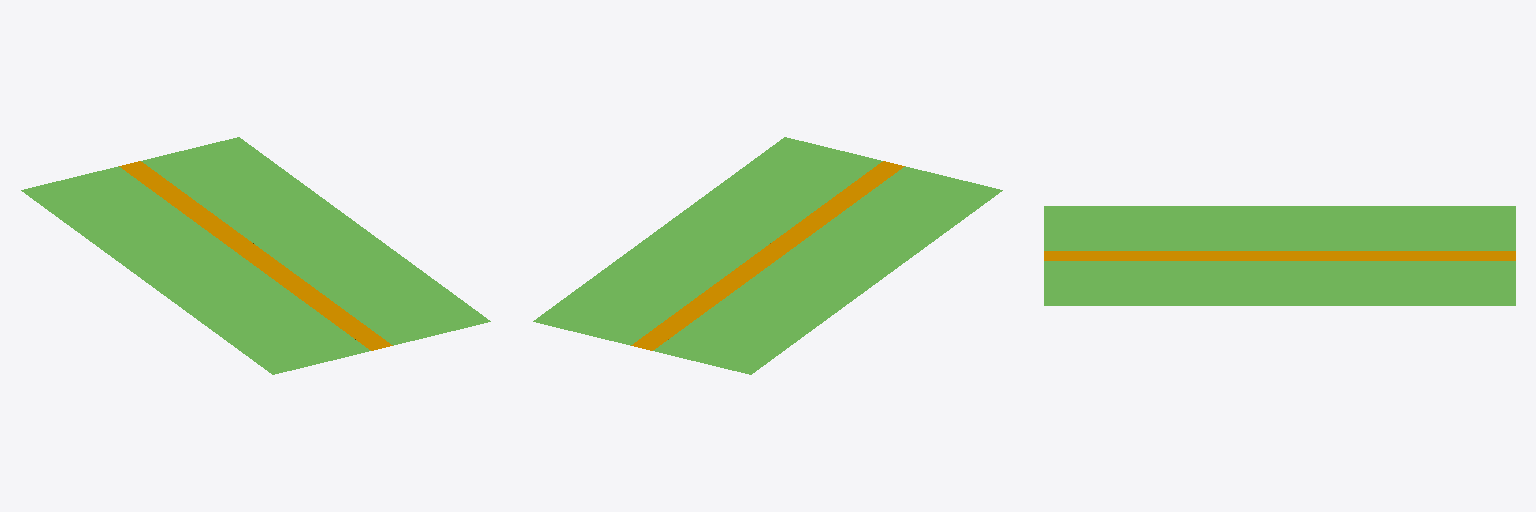
robot.urdf — plane_road:
<?xml version='1.0' encoding='UTF-8'?>
<robot name="plane_road">

  <link name="road">

    <visual>
      <geometry>
        <box size="4 80 0.001"/>
      </geometry>

      <material name="asphalt">
<!--        <color rgba="0.2 0.2 0.3 1"/>-->
      </material>

    </visual>

    <collision>
      <geometry>
        <box size="4 80 0.001"/>
      </geometry>
    </collision>

  </link>

  <link name="side">

    <visual>
      <geometry>
        <box size="40 80 0.000001"/>
      </geometry>

      <material name="grass">
        <color rgba="0.5 0.8 0.4 1"/>
      </material>
    </visual>

<!--    <collision>-->
<!--      <geometry>-->
<!--        <box size="20 40 0.0000001"/>-->
<!--      </geometry>-->
<!--    </collision>-->

  </link>


  <joint name="joint1" type="continuous">
    <parent link="road"/>
    <child link="side"/>
    <origin xyz="0 0 0" rpy="0 0 0" />
  </joint>
</robot>

--- What the picture shows (computed from the rendered views, not written in the file) ---
3 views of the same robot in one strip: view 1: azimuth 30°, elevation 25°; view 2: azimuth 150°, elevation 25°; view 3: azimuth 270°, elevation 25° (orthographic).
Model plane_road with 2 links and 1 joints (1 continuous), rooted at road, posed every joint at zero.
Visible links, largest first — view 1: side, road; view 2: side, road; view 3: side, road.
Link boxes in pixels (box(x1,y1,x2,y2)): side: box(21, 137, 490, 374); road: box(119, 161, 392, 350); side: box(533, 137, 1002, 374); road: box(631, 161, 904, 350); side: box(1044, 206, 1515, 305); road: box(1044, 251, 1515, 260).
Size in the robot's own frame: 40 by 80 by 0.001 metres.
Geometry: primitives only (box / cylinder / sphere), no mesh files.